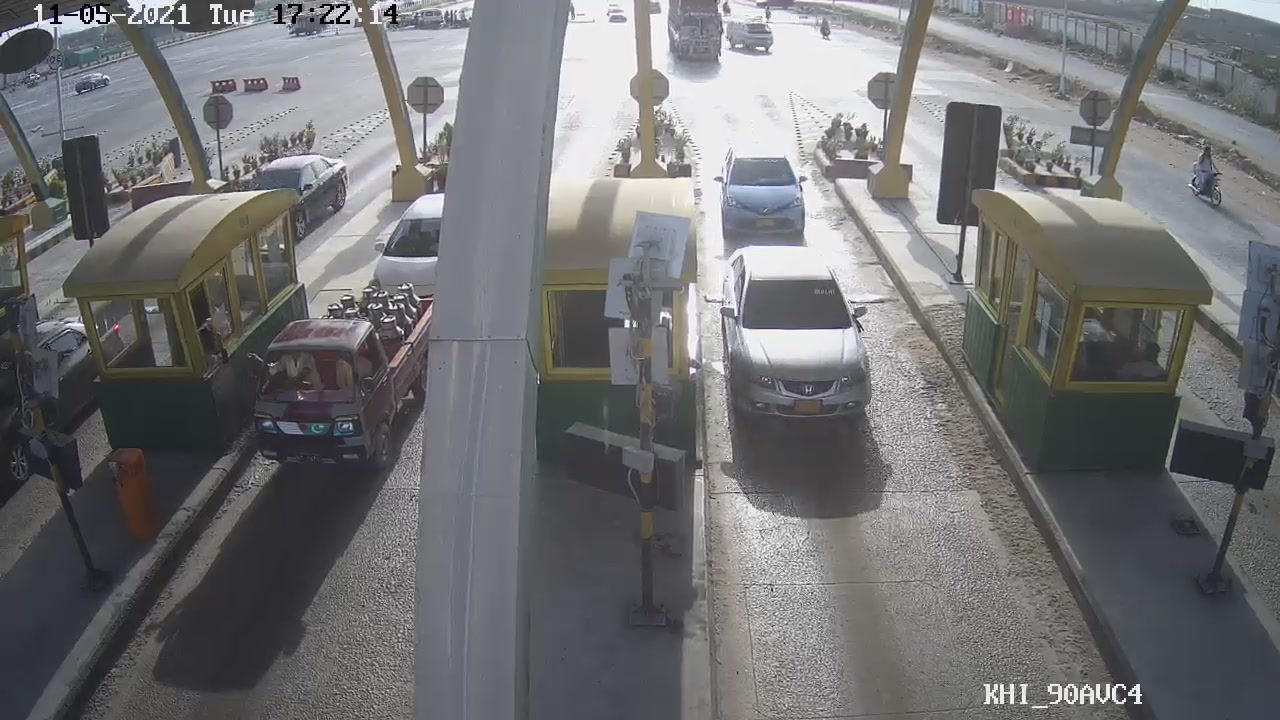F1: (702, 232, 891, 426)
